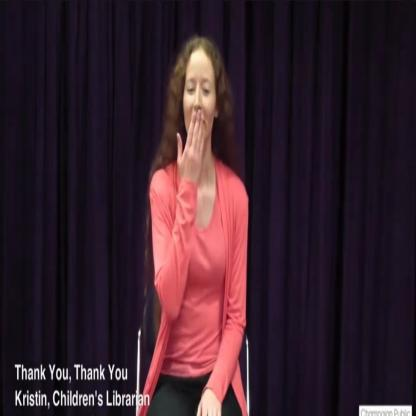ThankYou: (160, 27, 244, 268)
